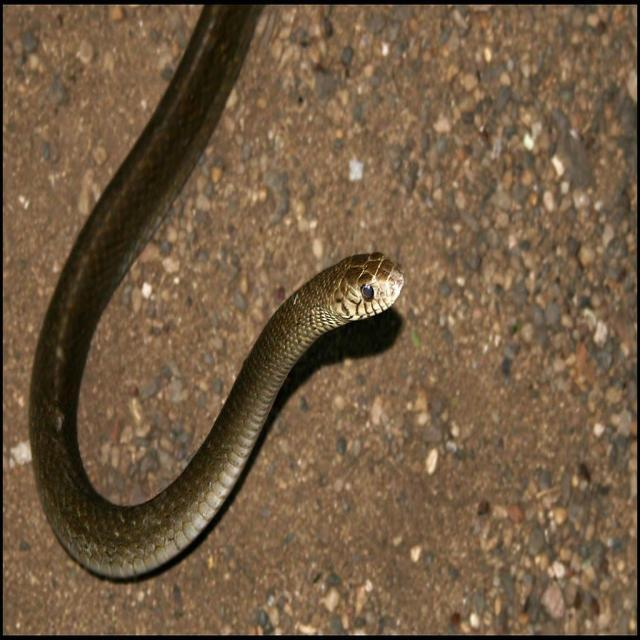Snake: (28, 1, 404, 582)
